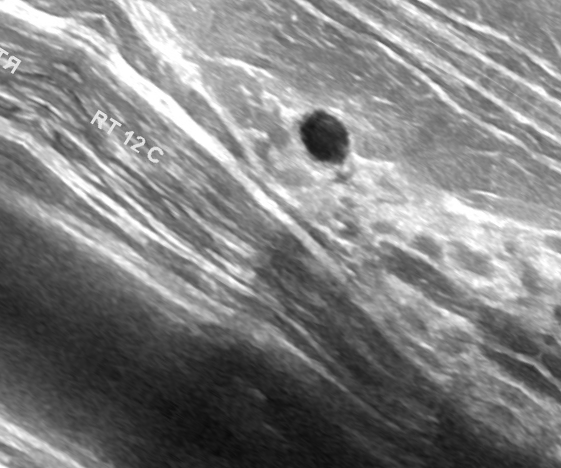Benign: (296, 104, 355, 168)
